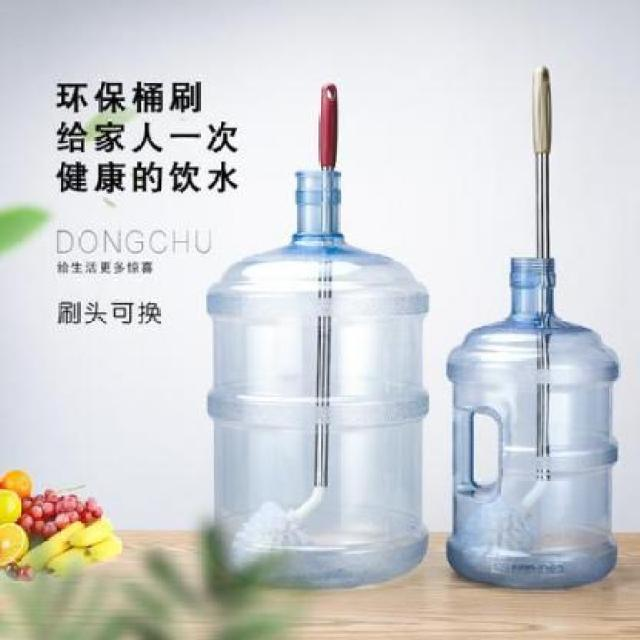coolerbottle: (202, 165, 436, 593), (440, 252, 625, 596)
